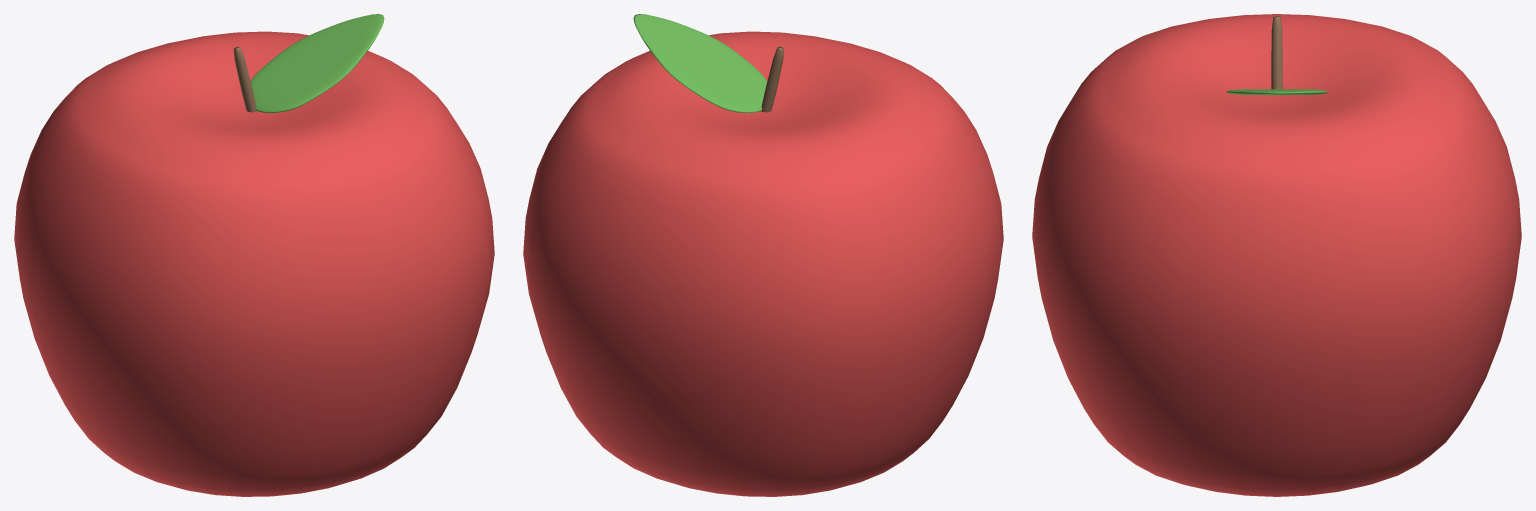
Rendered from Apple.fbx.
3 views of the same model, side by side, from view 1: azimuth 30°, elevation 25°; view 2: azimuth 150°, elevation 25°; view 3: azimuth 270°, elevation 25° (orthographic). The views are drawn at different scales.
Visible parts, largest first — view 1: pCube3; view 2: pCube3; view 3: pCube3.
Part boxes in pixels (left/top/right/bottom): pCube3: left=14, top=14, right=494, bottom=496; pCube3: left=523, top=14, right=1003, bottom=496; pCube3: left=1032, top=14, right=1521, bottom=496.
Bounding box in the file's own units: 0.9789 × 0.9349 × 0.9789.
